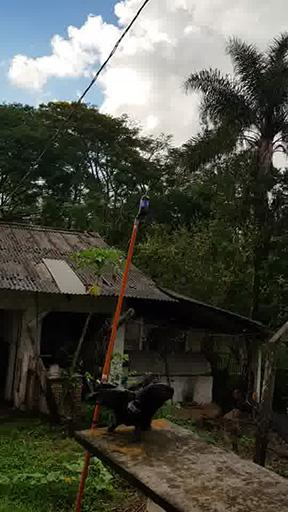Vara_Manobra: (73, 220, 138, 511)
